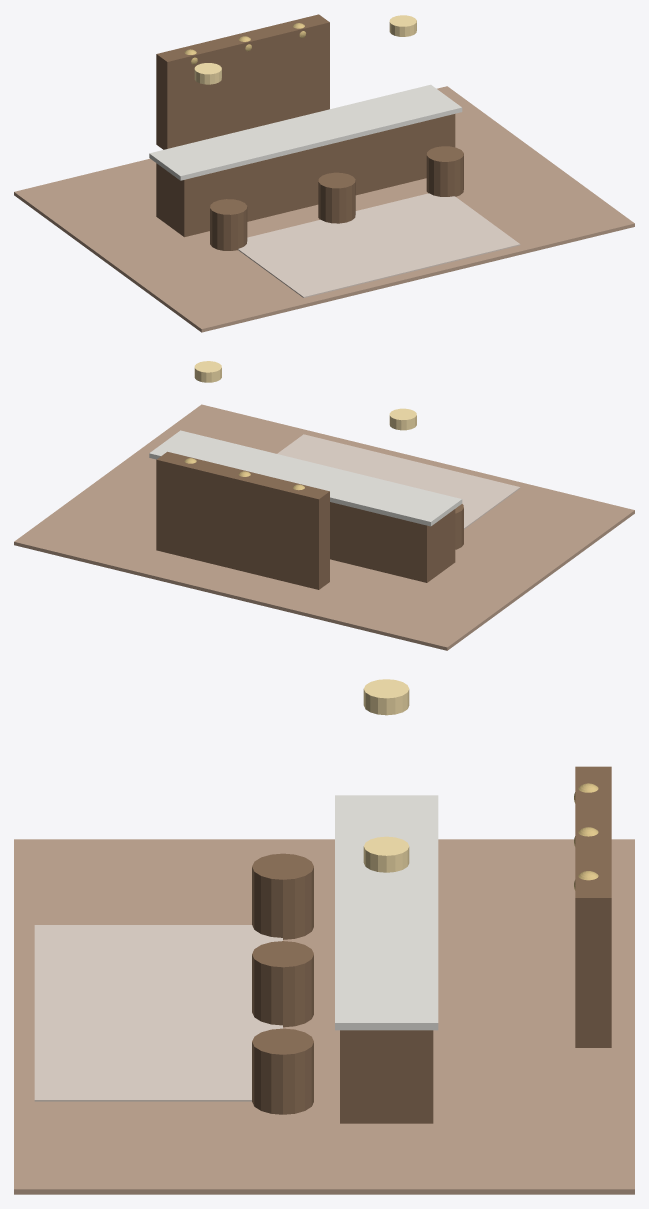
File: nervix_cafeinterior.glb
The picture shows the model from 3 angles, top to bottom: view 1: azimuth 30°, elevation 25°; view 2: azimuth 150°, elevation 25°; view 3: azimuth 270°, elevation 25°; orthographic projection. The views are drawn at different scales.
Visible parts, largest first — view 1: cafe_floor, shelf, rug, counter, counter_top, stool_0, stool_2, stool_1, pendant_1, pendant_0; view 2: cafe_floor, shelf, counter_top, counter, rug, pendant_0, pendant_1; view 3: cafe_floor, rug, counter_top, shelf, counter, stool_2, stool_0, stool_1, pendant_1, pendant_0.
Part boxes in pixels (x1,y1,x2,y2): cafe_floor: [14, 86, 634, 332]; shelf: [156, 14, 329, 149]; rug: [238, 193, 520, 297]; counter: [156, 114, 455, 237]; counter_top: [149, 84, 462, 180]; stool_0: [210, 199, 247, 250]; stool_2: [426, 146, 463, 196]; stool_1: [318, 172, 355, 223]; pendant_1: [389, 15, 416, 36]; pendant_0: [194, 63, 221, 84]; cafe_floor: [14, 404, 634, 650]; shelf: [156, 451, 329, 589]; counter_top: [149, 430, 462, 526]; counter: [330, 502, 455, 582]; rug: [277, 434, 520, 529]; pendant_0: [389, 408, 416, 430]; pendant_1: [194, 361, 221, 382]; cafe_floor: [14, 839, 634, 1194]; rug: [34, 925, 282, 1101]; counter_top: [335, 795, 438, 1030]; shelf: [575, 766, 611, 1047]; counter: [340, 1030, 433, 1123]; stool_2: [252, 1028, 313, 1114]; stool_0: [252, 853, 313, 939]; stool_1: [252, 941, 313, 1027]; pendant_1: [363, 836, 409, 872]; pendant_0: [363, 679, 409, 715].
Size of the model in its own units: 8 by 2.69 by 6.
